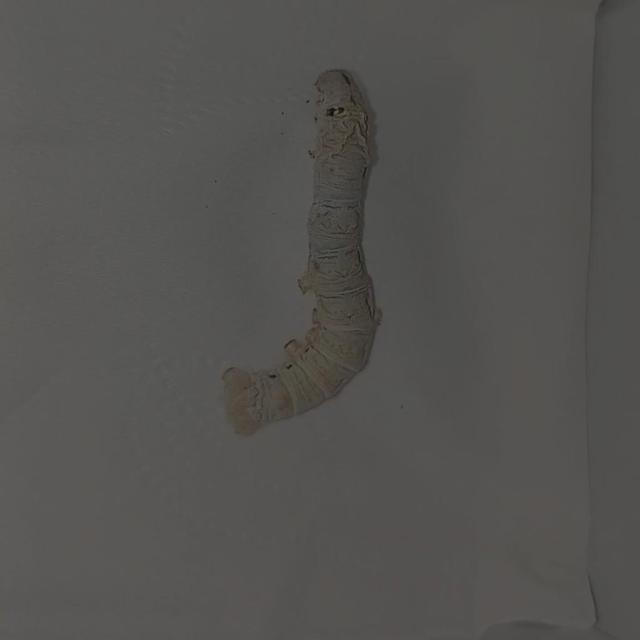Healthy: (175, 36, 466, 458)
